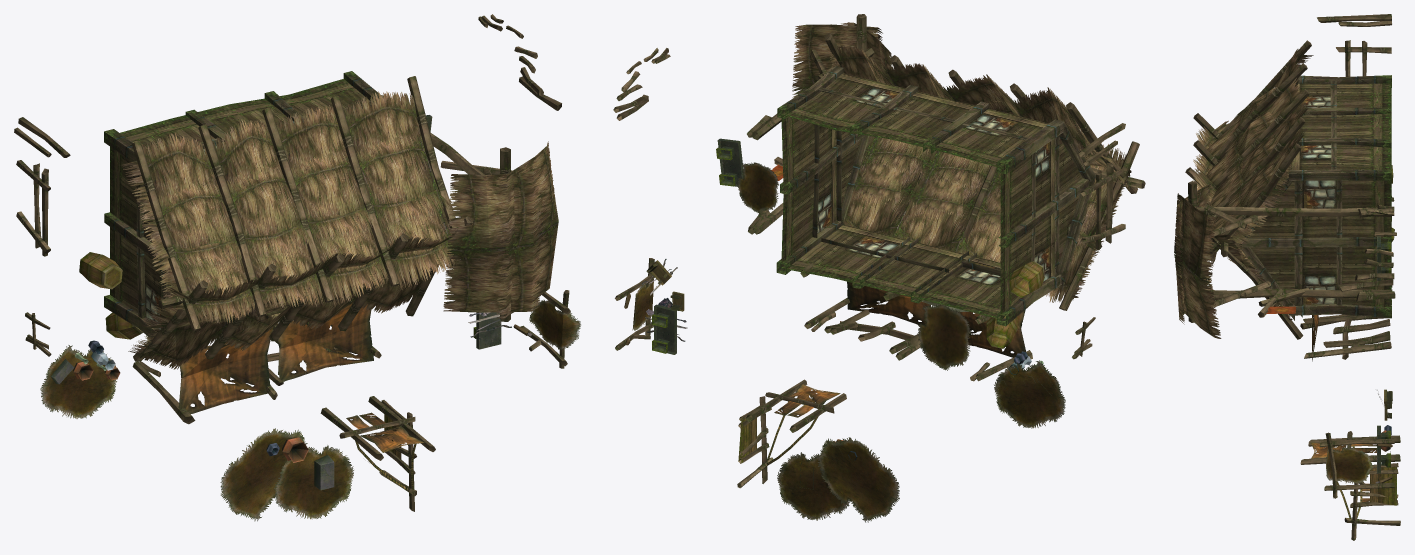
Rendered from zhanchang_fuben_303_shichang01.obj.
3 views of the same model, side by side, from view 1: azimuth 30°, elevation 25°; view 2: azimuth 150°, elevation 25°; view 3: azimuth 270°, elevation 25° (orthographic). The views are drawn at different scales.
Parts seen in each view (by area): view 1: zhanchang_fuben_303_shichang01; view 2: zhanchang_fuben_303_shichang01; view 3: zhanchang_fuben_303_shichang01.
Boxes of the visible parts, x1=… form: zhanchang_fuben_303_shichang01: x1=14, y1=14, x2=580, y2=521; zhanchang_fuben_303_shichang01: x1=613, y1=14, x2=1145, y2=522; zhanchang_fuben_303_shichang01: x1=1174, y1=14, x2=1400, y2=540.
Size of the model in its own units: 779 by 684 by 353.
Materials: 7 (7 with a texture image).
